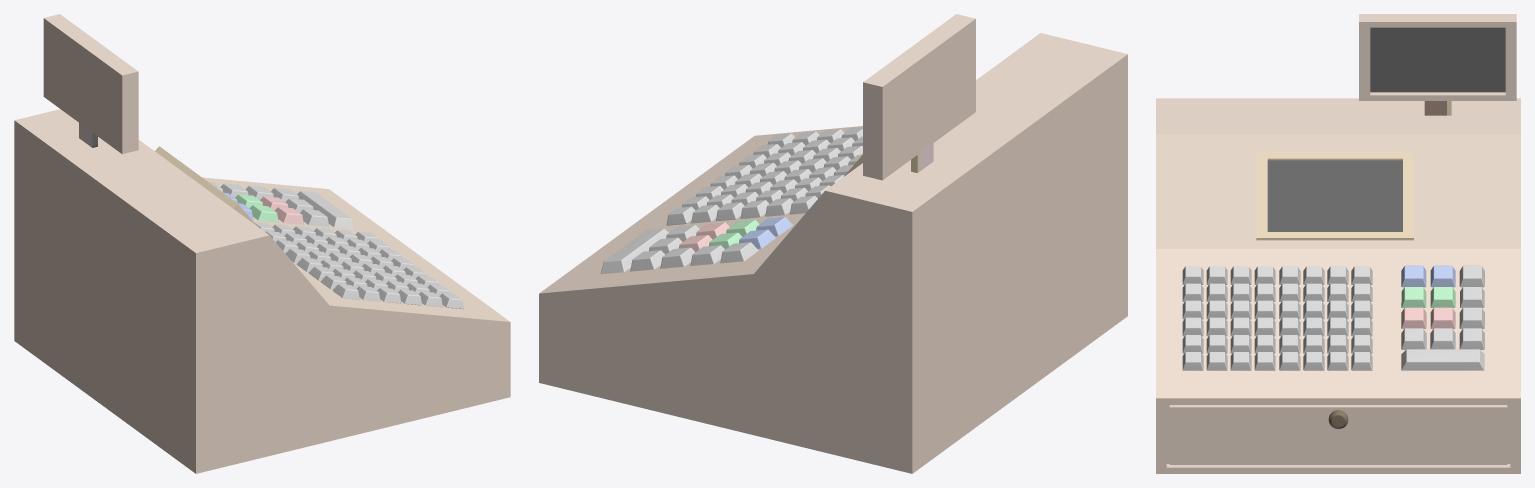
File: cashier.fbx
The picture shows the model from 3 angles, left to right: view 1: azimuth 30°, elevation 25°; view 2: azimuth 150°, elevation 25°; view 3: azimuth 270°, elevation 25°; orthographic projection. The views are drawn at different scales.
Visible parts, largest first — view 1: polySurface893; view 2: polySurface893; view 3: polySurface893.
Part boxes in pixels (left/top/right/bottom): polySurface893: left=14, top=14, right=510, bottom=473; polySurface893: left=539, top=14, right=1127, bottom=473; polySurface893: left=1156, top=14, right=1520, bottom=473.
Bounding box in the file's own units: 44.07 × 41.86 × 43.35.
